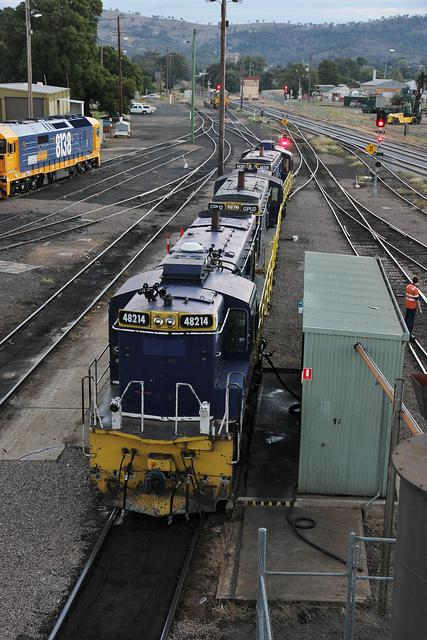Train: (80, 140, 296, 522), (1, 87, 230, 205)
